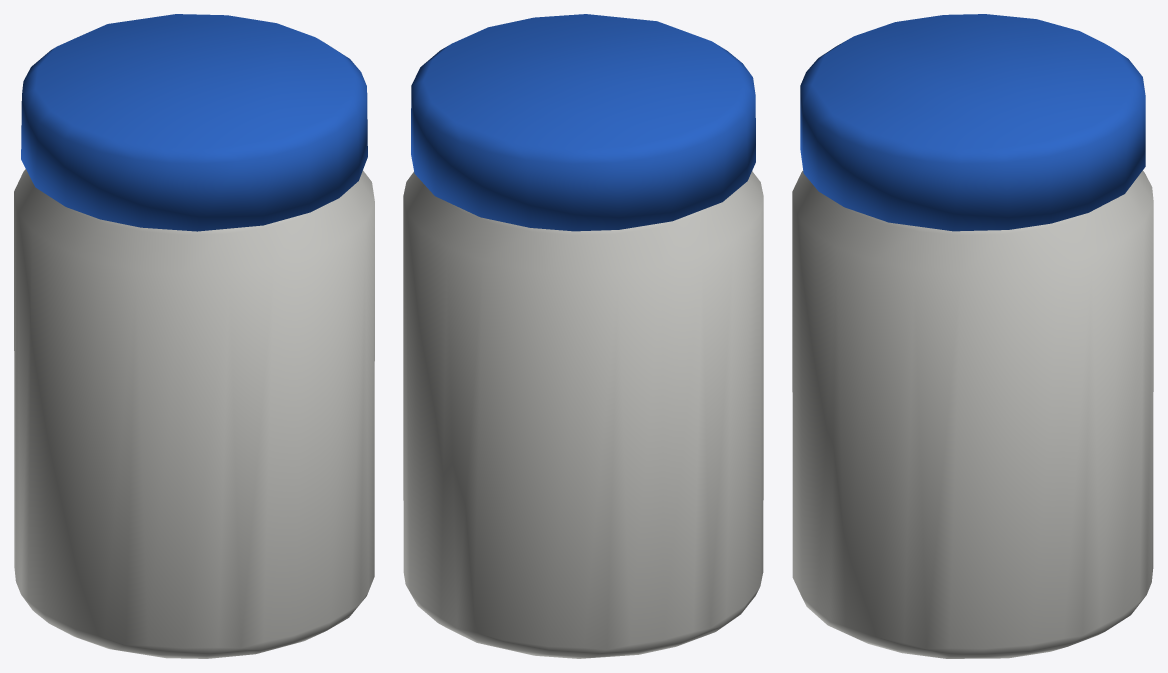
The model's file is SM_ReagentJar_250.glb.
The picture shows the model from 3 angles, left to right: view 1: azimuth 30°, elevation 25°; view 2: azimuth 150°, elevation 25°; view 3: azimuth 270°, elevation 25°; orthographic projection.
Parts seen in each view (by area): view 1: SM_ReagentJar_250; view 2: SM_ReagentJar_250; view 3: SM_ReagentJar_250.
Boxes of the visible parts, x1=… form: SM_ReagentJar_250: x1=14, y1=14, x2=374, y2=658; SM_ReagentJar_250: x1=403, y1=14, x2=763, y2=658; SM_ReagentJar_250: x1=792, y1=14, x2=1153, y2=658.
Size of the model in its own units: 0.068 by 0.106 by 0.068.
